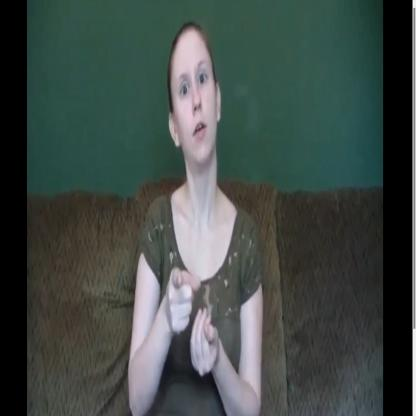HowAreYou: (125, 21, 266, 416)
